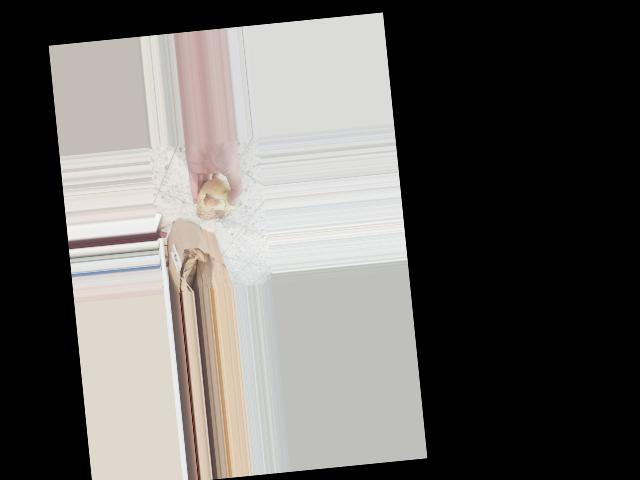onion: (192, 173, 243, 223)
